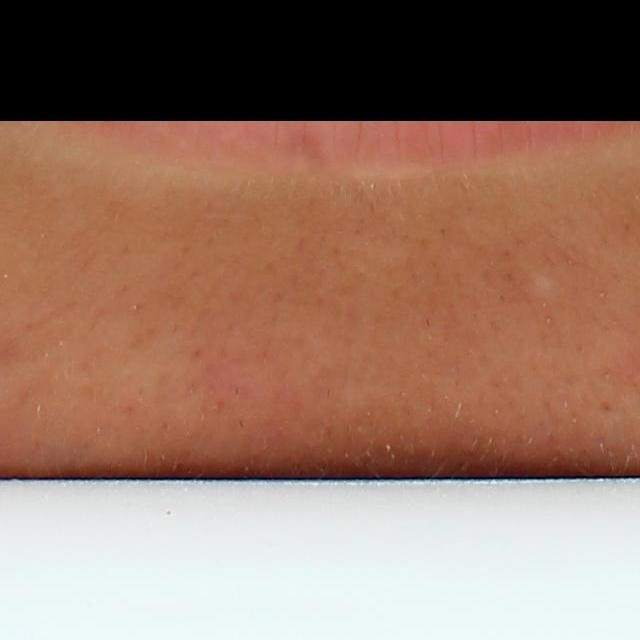hypertrophic_scar: (511, 263, 561, 304)
